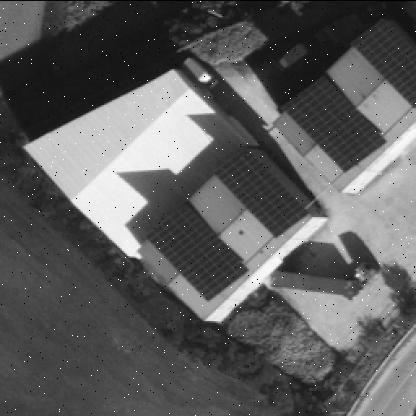solar-pv-panel: (146, 201, 249, 301), (280, 74, 387, 170), (212, 145, 308, 236), (350, 17, 416, 108)
